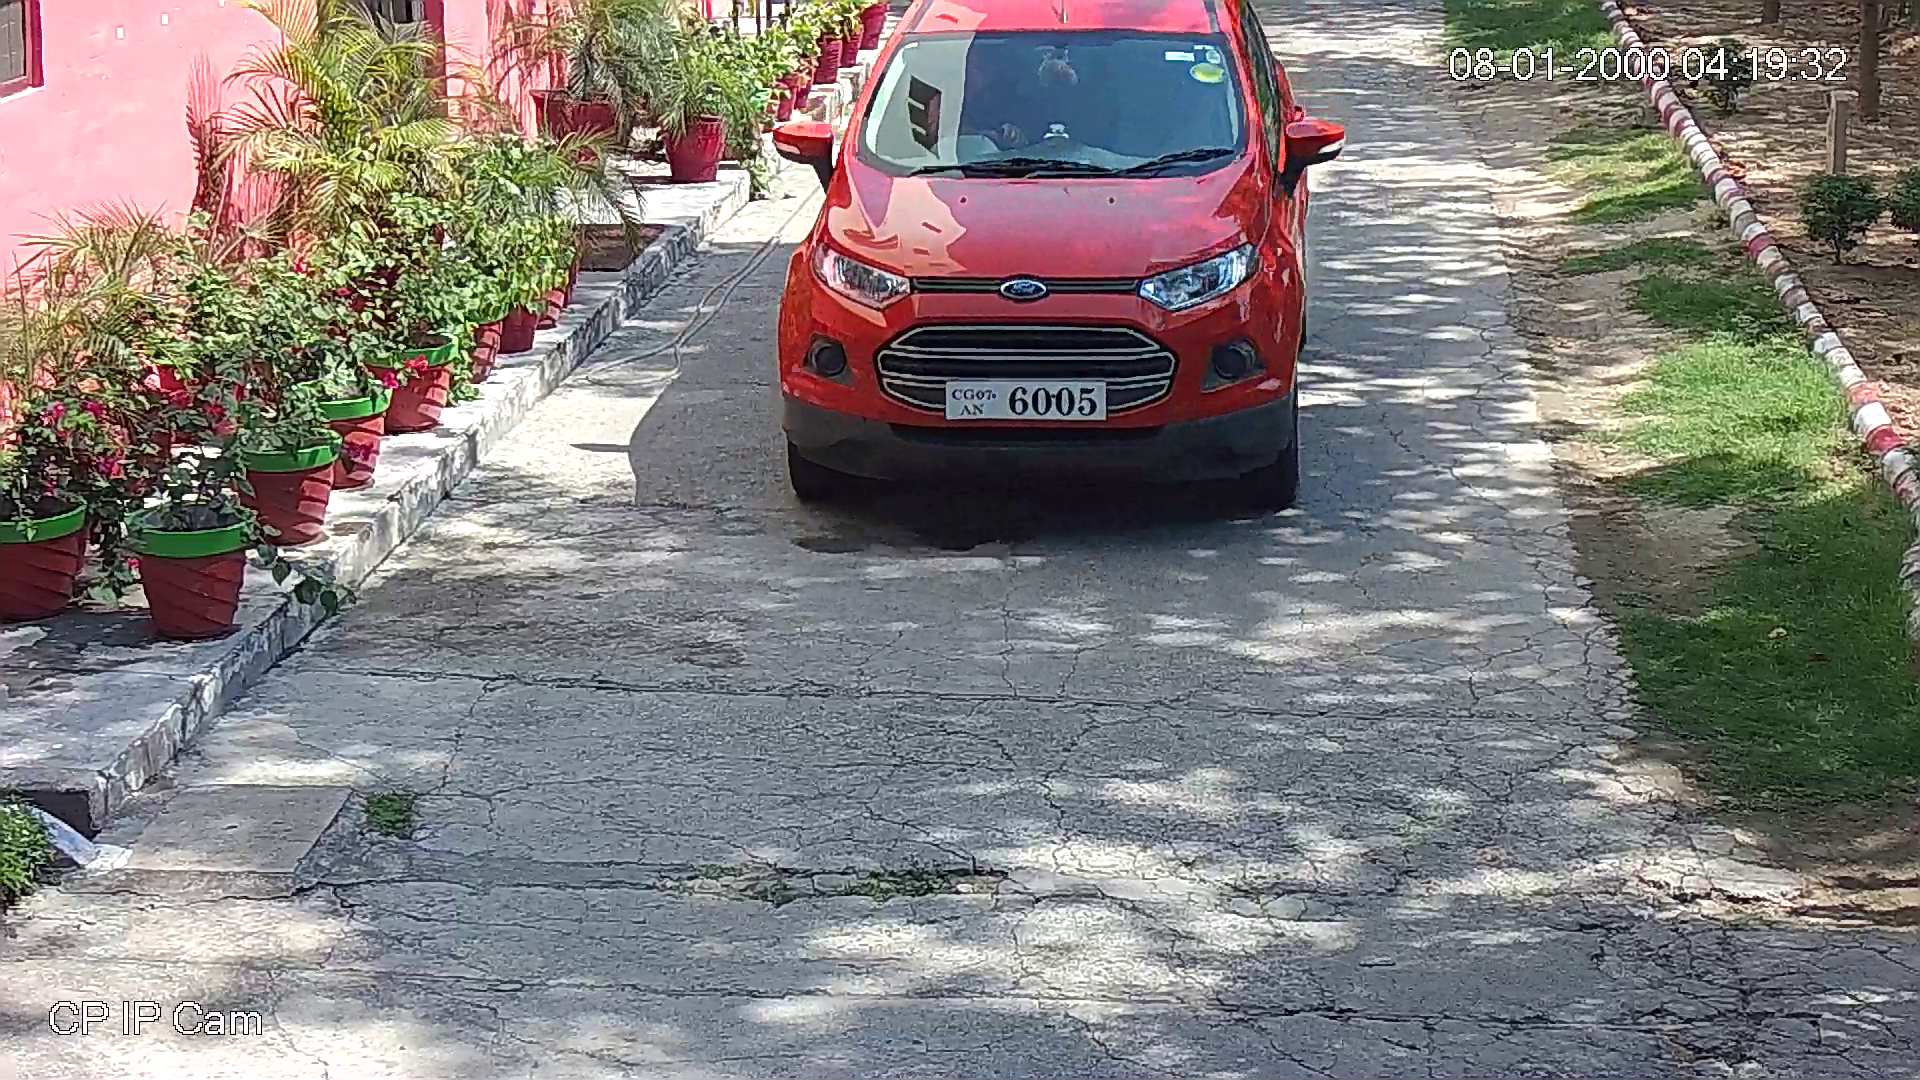plate: (937, 372, 1113, 424)
